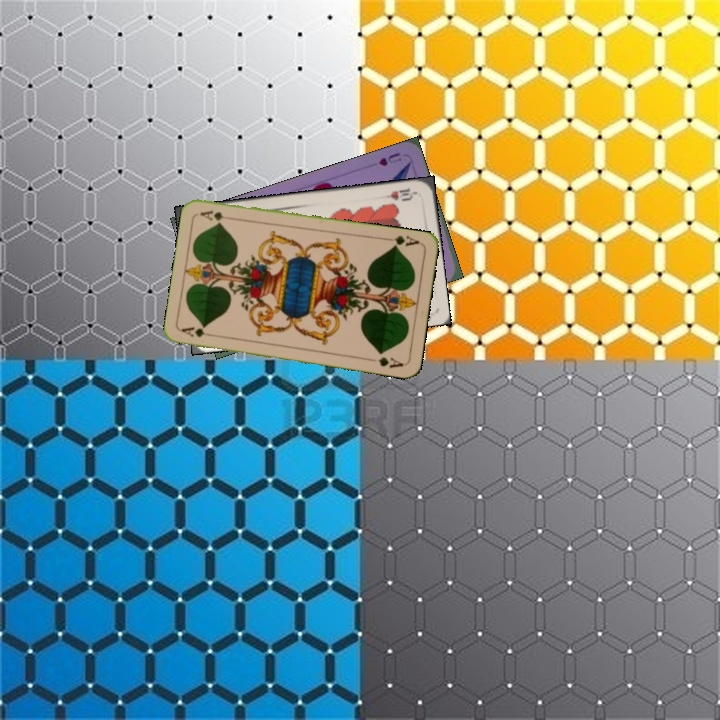GA: (382, 232, 422, 251), (178, 322, 218, 340)
H10: (378, 184, 419, 203)
HU: (374, 148, 404, 169)
